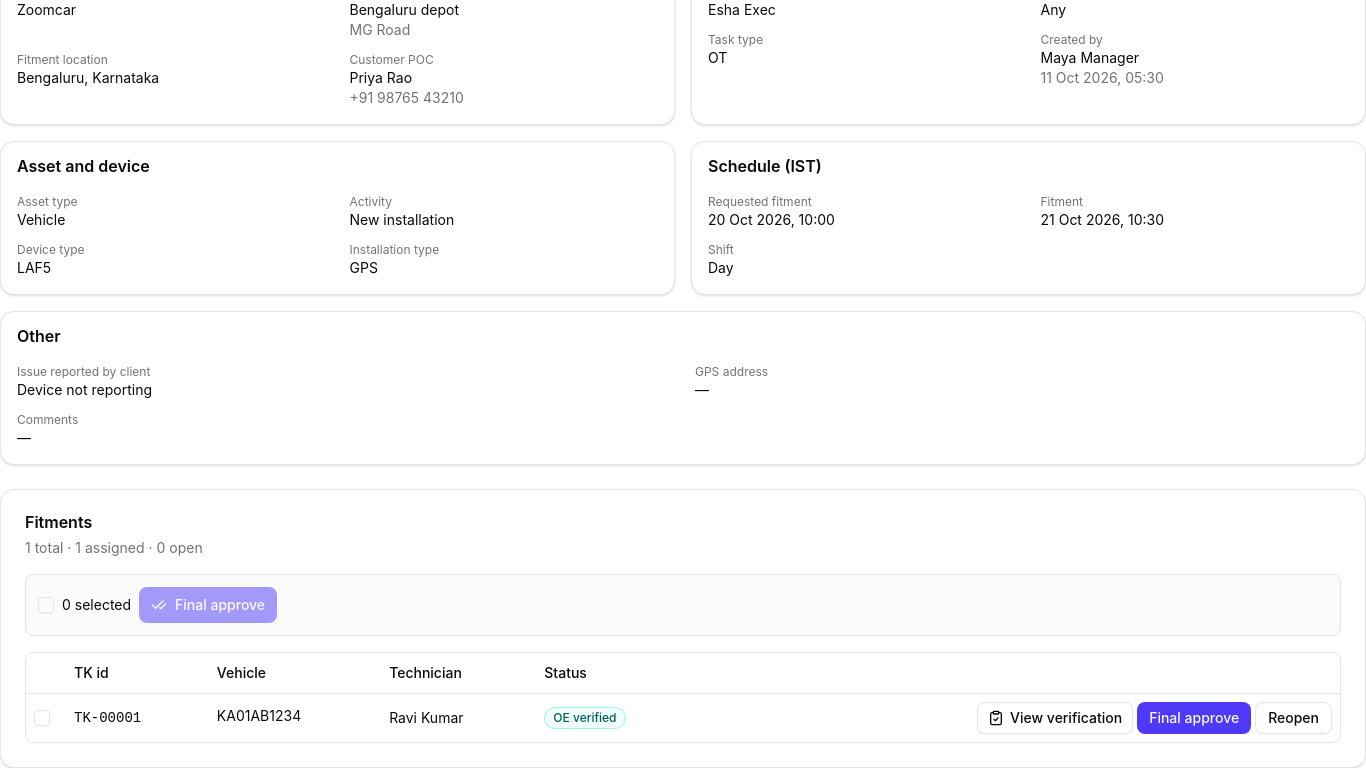
Test: fitment actions (F05) › an OM reopening an OE-verified fitment is told it also counts against the OE
(page scrolled)
Click the button with aria-label "Reopen TK-00001": [1294, 718] box x1=1255 y1=702 x2=1332 y2=734
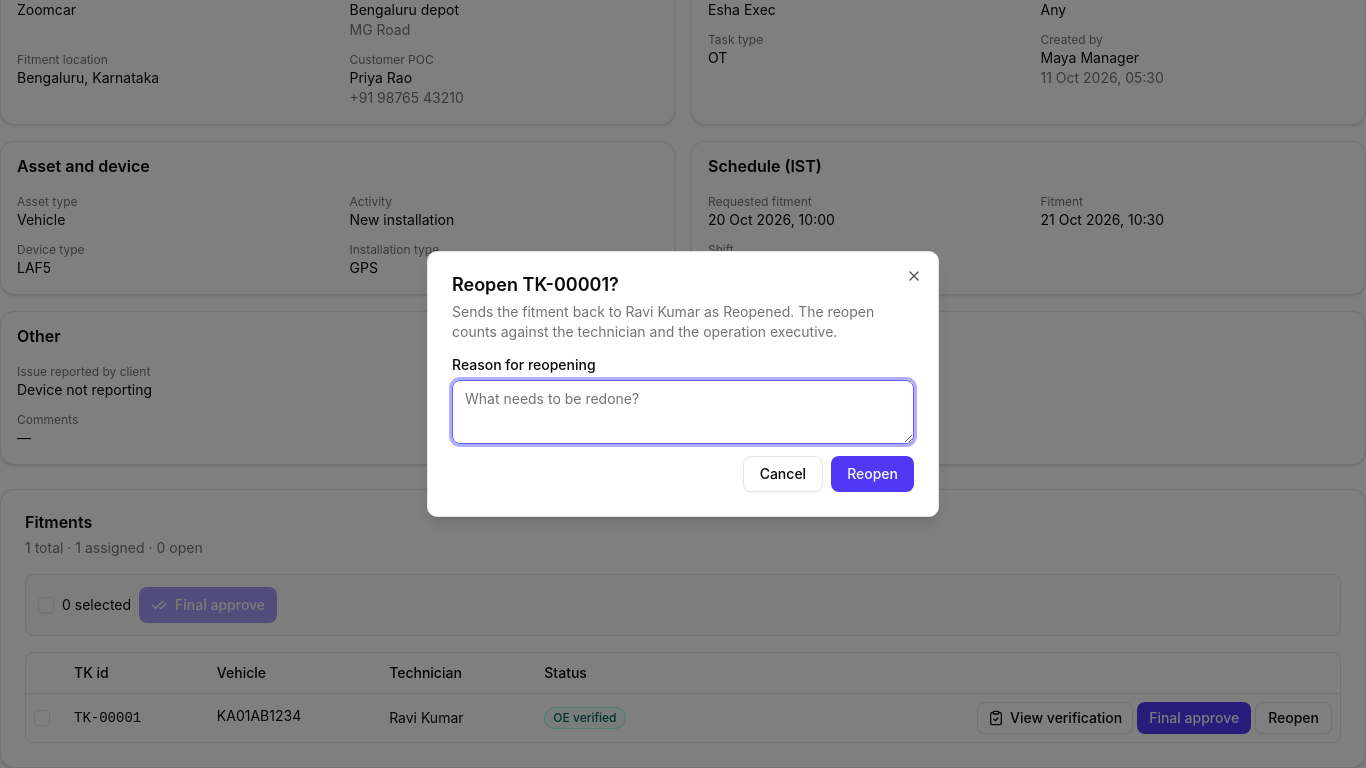
Result: the text "counts against the technician and the operation executive" is shown at x1=452 y1=303 x2=874 y2=340
